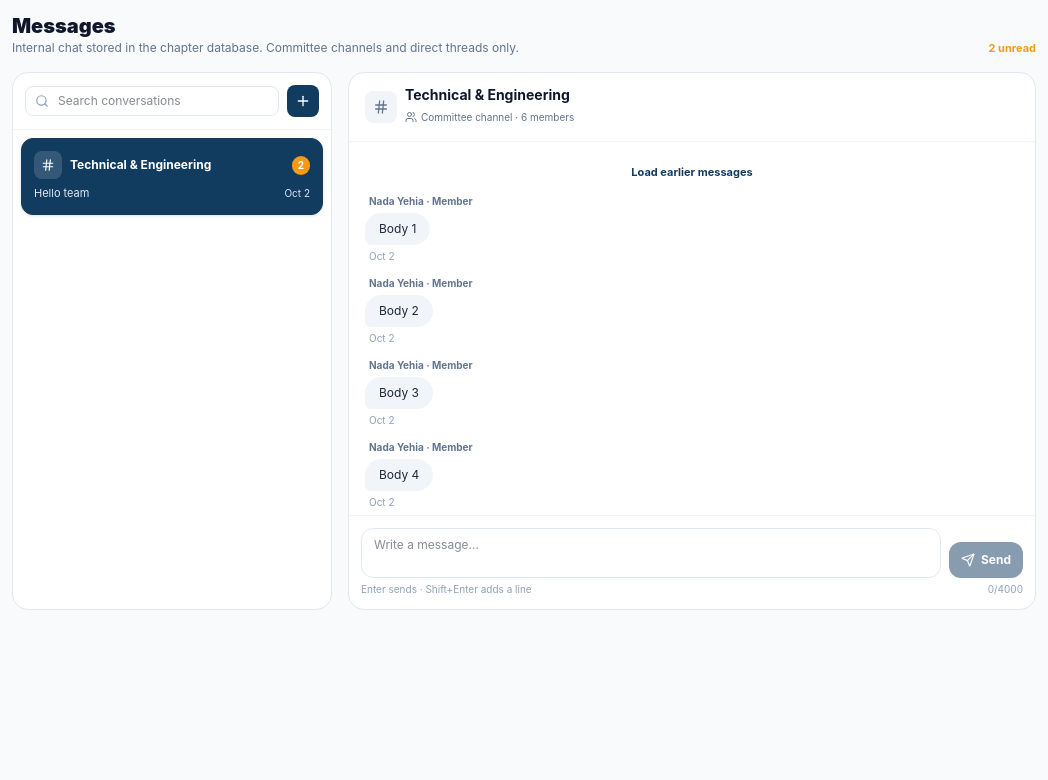
Test case: with a configured project › pages backwards without repeating a message
Step 1. Click the button "Load earlier messages" → (692, 172), box [631,164,753,180]
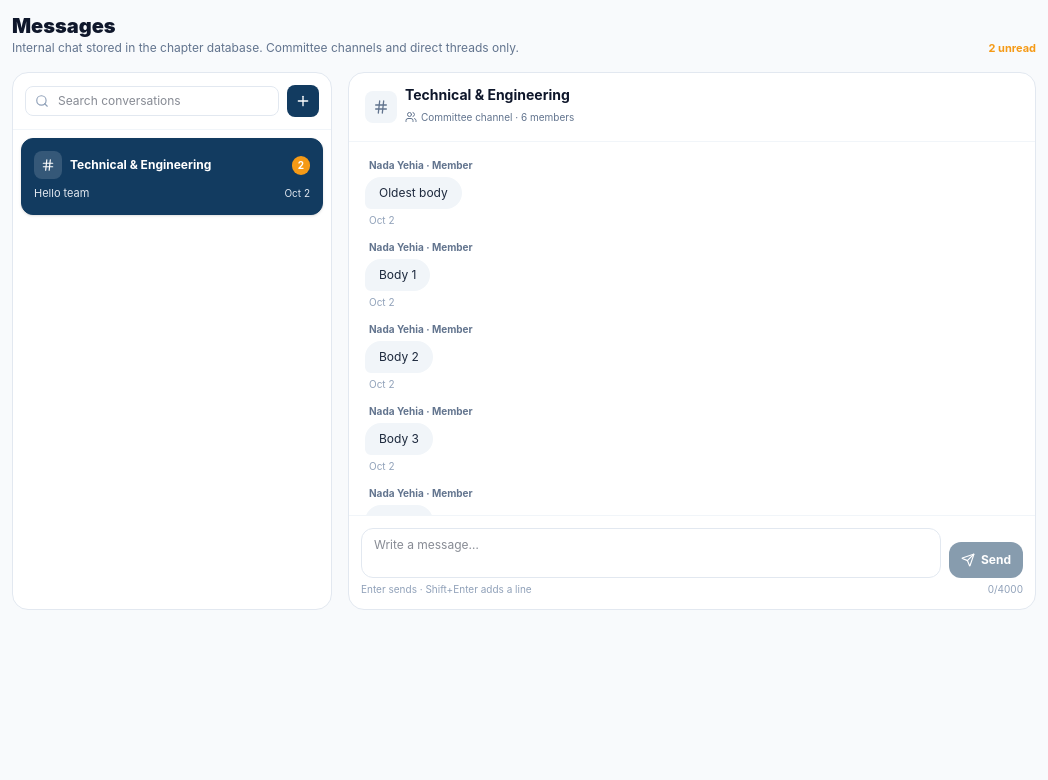
Expected: the text "Oldest body" is shown, [365,177,462,209]
Expected: the button "Load earlier messages" is gone
